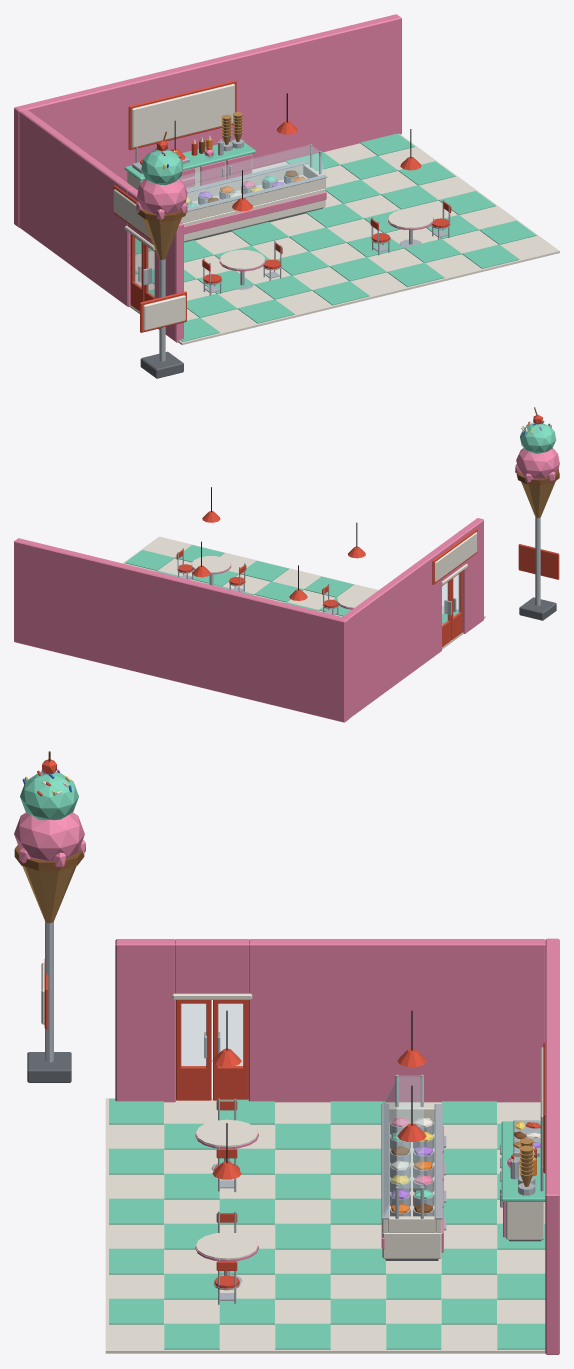
The model's file is ice-cream-parlour.glb.
3 views of the same model, one above another, from view 1: azimuth 30°, elevation 25°; view 2: azimuth 150°, elevation 25°; view 3: azimuth 270°, elevation 25° (orthographic). The views are drawn at different scales.
Parts seen in each view (by area): view 1: Wall_Back, Floor, Wall_Left_Back, Menu_Blank, Freezer_GlassFront, Freezer_Body, Wall_Left_Front, Freezer_GlassTop, Freezer_WellFront, Sign_Scoop_Pink, Freezer_FrontBand, Sign_Scoop_Mint (+39 smaller); view 2: Wall_Back, Wall_Left_Back, Floor, Wall_Left_Front, Sign_PanelFrame, Sign_Scoop_Pink, ShopSign_Blank, Sign_Scoop_Mint, Sign_Cone, FloorTile_9_1, Sign_Plinth, FloorTile_6_0 (+7 smaller); view 3: Floor, Wall_Left_Back, Wall_Left_Front, Wall_Back, Wall_Left_AboveDoor, Freezer_GlassTop, Sign_Scoop_Pink, Sign_Scoop_Mint, Door_L, Door_R, Freezer_Body, Freezer_GlassFront (+46 smaller).
Part boxes in pixels (box(x1,y1,x2,y2)): Wall_Back: box(14, 14, 401, 227); Floor: box(129, 133, 559, 345); Wall_Left_Back: box(19, 109, 135, 306); Menu_Blank: box(131, 83, 234, 147); Freezer_GlassFront: box(185, 153, 325, 209); Freezer_Body: box(183, 175, 325, 241); Wall_Left_Front: box(154, 222, 183, 342); Freezer_GlassTop: box(179, 145, 319, 185); Freezer_WellFront: box(180, 178, 325, 222); Sign_Scoop_Pink: box(137, 179, 187, 214); Freezer_FrontBand: box(184, 191, 326, 234); Sign_Scoop_Mint: box(141, 150, 183, 185); Wall_Back: box(14, 538, 348, 722); Wall_Left_Back: box(342, 548, 441, 718); Floor: box(122, 536, 485, 649); Wall_Left_Front: box(458, 518, 483, 633); Sign_PanelFrame: box(518, 544, 559, 579); Sign_Scoop_Pink: box(516, 448, 559, 478); ShopSign_Blank: box(435, 532, 477, 581); Sign_Scoop_Mint: box(520, 423, 556, 453); Sign_Cone: box(521, 481, 555, 518); FloorTile_9_1: box(125, 550, 174, 570); Sign_Plinth: box(519, 597, 556, 620); FloorTile_6_0: box(241, 561, 288, 581); Floor: box(105, 1098, 545, 1353); Wall_Left_Back: box(248, 939, 545, 1102); Wall_Left_Front: box(115, 939, 175, 1102); Wall_Back: box(545, 938, 559, 1354); Wall_Left_AboveDoor: box(175, 939, 249, 993); Freezer_GlassTop: box(397, 1075, 423, 1188); Sign_Scoop_Pink: box(14, 812, 84, 861); Sign_Scoop_Mint: box(20, 771, 78, 820); Door_L: box(176, 1000, 211, 1100); Door_R: box(213, 1000, 248, 1100); Freezer_Body: box(382, 1122, 441, 1258); Freezer_GlassFront: box(382, 1078, 397, 1216).
Size of the model in its own units: 47.5 by 24.26 by 36.9.
